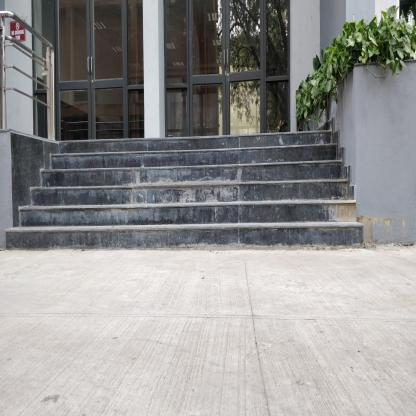stairs: (51, 134, 337, 258)
